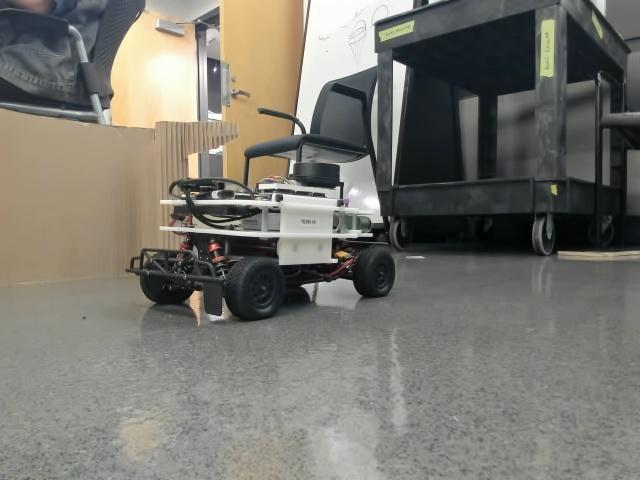Car: (140, 160, 393, 314)
